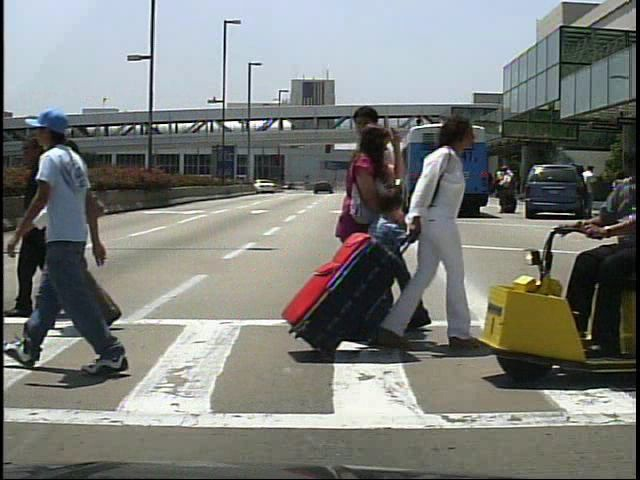person: (33, 105, 141, 388), (373, 112, 483, 363), (345, 101, 435, 350), (338, 123, 403, 356), (568, 161, 640, 360), (39, 135, 104, 329), (12, 130, 71, 324), (361, 183, 407, 318), (582, 164, 602, 219), (498, 166, 516, 219), (500, 165, 519, 214)
